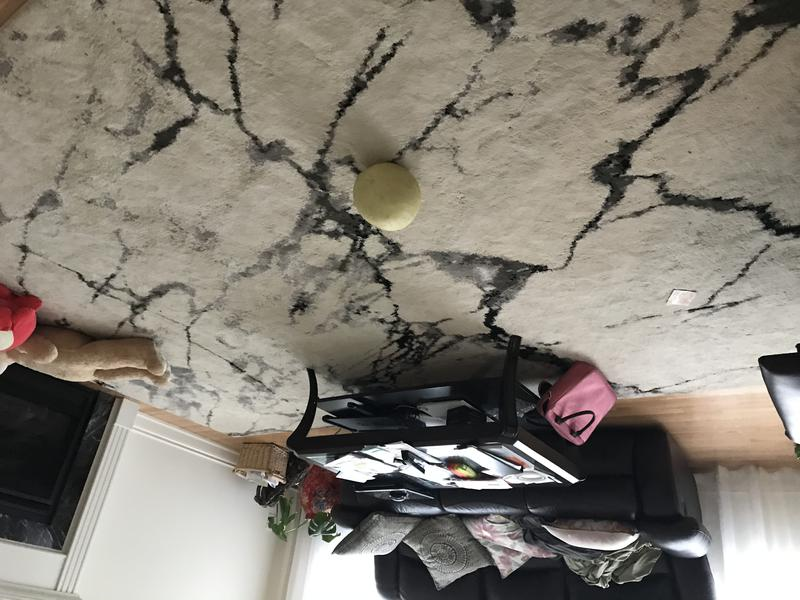honeydew: (350, 158, 426, 235)
